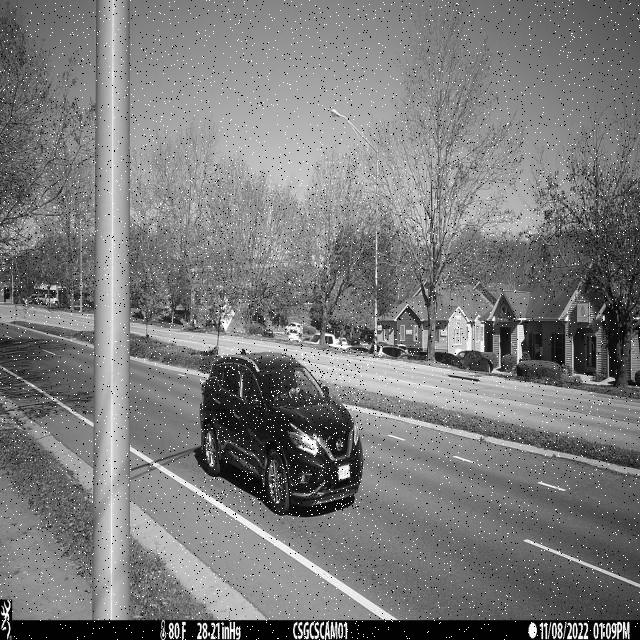SUV: (200, 348, 364, 516)
